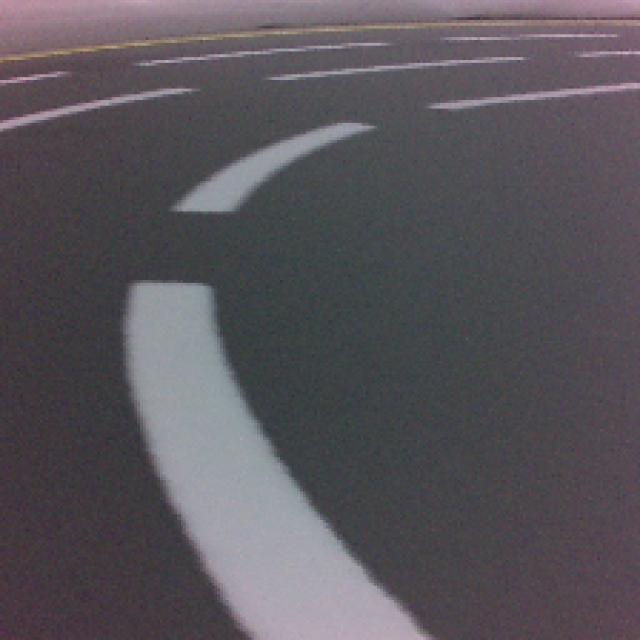Pedestrian crosswalk: (126, 283, 431, 640)
